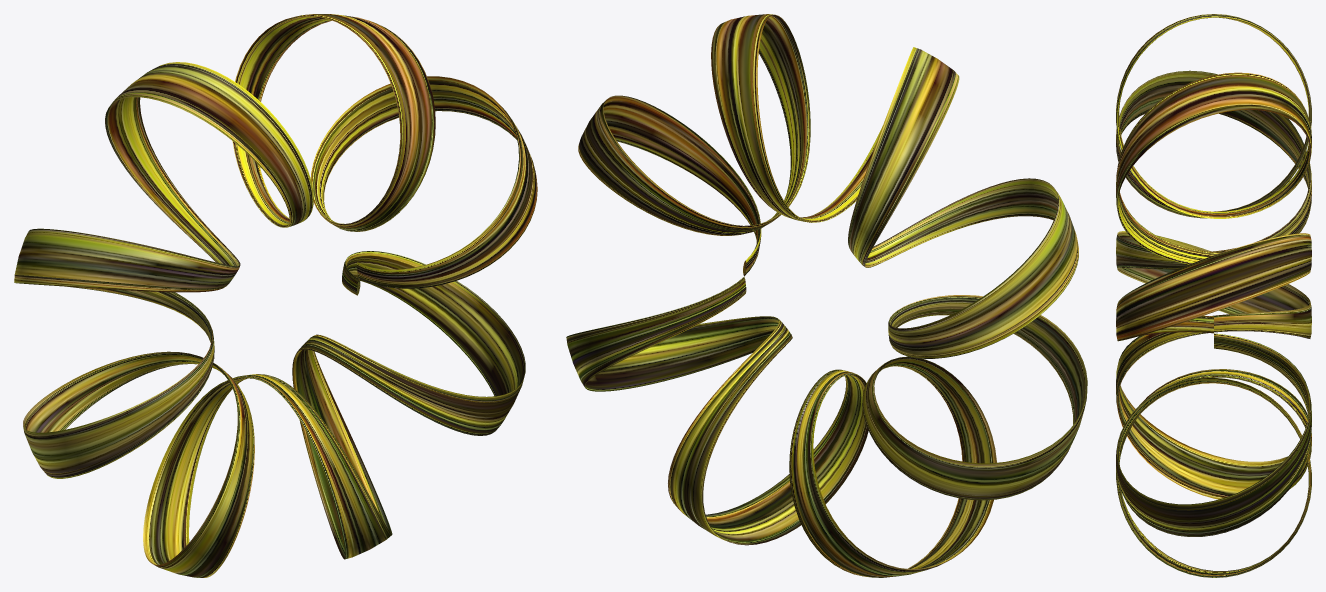
File: helix.obj
3 renders of one model, left to right at view 1: azimuth 30°, elevation 25°; view 2: azimuth 150°, elevation 25°; view 3: azimuth 270°, elevation 25°, orthographic. The views are drawn at different scales.
Visible parts, largest first — view 1: pHelix1; view 2: pHelix1; view 3: pHelix1.
Part boxes in pixels (left/top/right/bottom): pHelix1: left=14, top=14, right=537, bottom=577; pHelix1: left=566, top=14, right=1087, bottom=577; pHelix1: left=1116, top=14, right=1311, bottom=577.
Bounding box in the file's own units: 16.25 × 16.72 × 5.99.
Materials: 1 (1 with a texture image).
